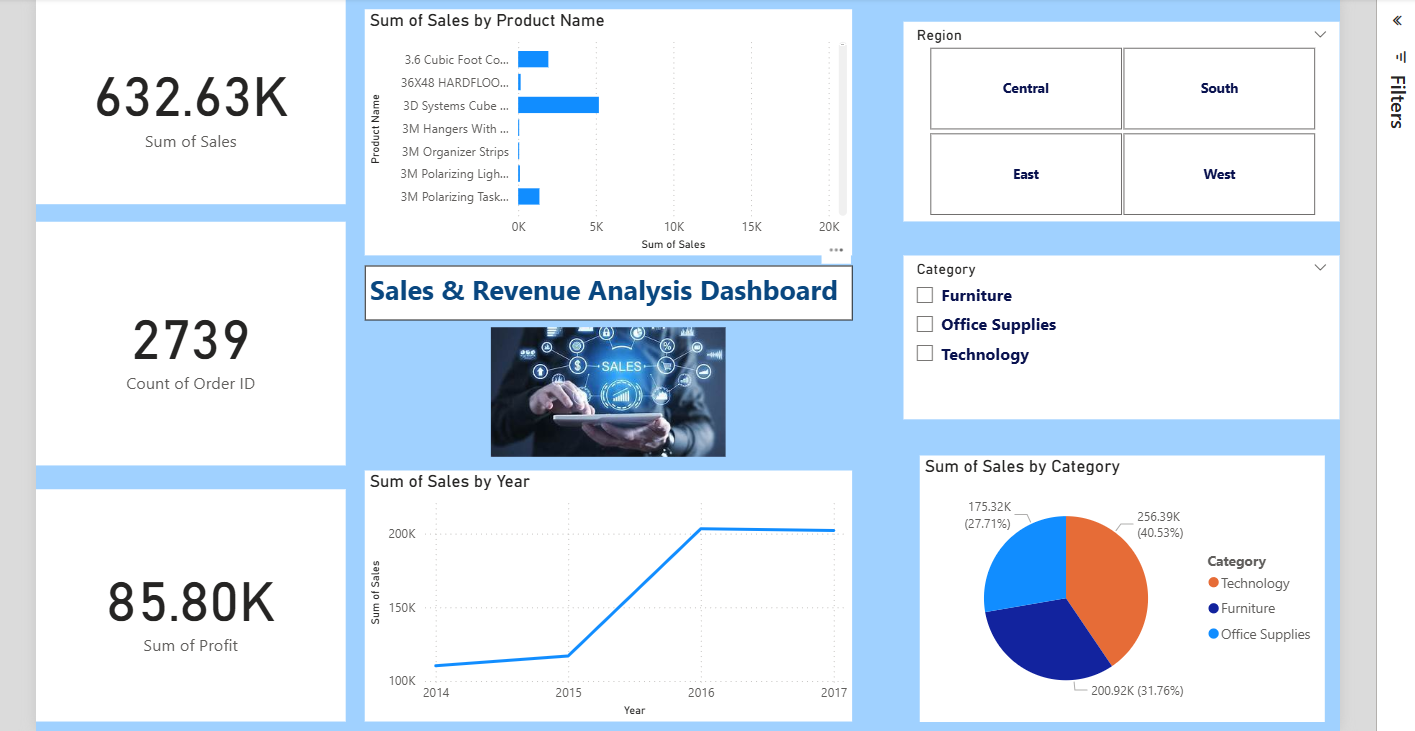

Layout of this report page (visuals, bound fields, positions):
{"tool":"powerbi","page":{"name":"Page 1","canvas":[1280,720],"ordinal":0},"visuals":[{"type":"card","fields":{"Values":["Sum(Sample - Superstore.Sales)"]},"box":[0,0,304.3,202.5],"z":0},{"type":"card","fields":{"Values":["CountNonNull(Sample - Superstore.Order ID)"]},"box":[0,219.6,304.3,239.3],"z":1000},{"type":"lineChart","fields":{"Category":["Sample - Superstore.Order Date.Variation.Date Hierarchy.Year","Sample - Superstore.Order Date.Variation.Date Hierarchy.Quarter","Sample - Superstore.Order Date.Variation.Date Hierarchy.Month","Sample - Superstore.Order Date.Variation.Date Hierarchy.Day"],"Y":["Sum(Sample - Superstore.Sales)"]},"box":[322.7,463.8,478.5,246.6],"z":2000},{"type":"clusteredBarChart","fields":{"Category":["Sample - Superstore.Product Name"],"Y":["Sum(Sample - Superstore.Sales)"]},"box":[322.7,11,478.5,241.7],"z":3000},{"type":"card","fields":{"Values":["Sum(Sample - Superstore.Profit)"]},"box":[0,482.2,304.3,228.2],"z":4000},{"type":"pieChart","fields":{"Category":["Sample - Superstore.Category"],"Y":["Sum(Sample - Superstore.Sales)"]},"box":[867.5,449.1,397.5,261.4],"z":5000},{"type":"slicer","fields":{"Values":["Sample - Superstore.Region"]},"box":[851.5,23.3,428.2,196.3],"z":6000},{"type":"slicer","fields":{"Values":["Sample - Superstore.Category"]},"box":[851.5,252.8,428.2,160.7],"z":7000},{"type":"image","box":[441.7,289.6,240.5,193.9],"z":8000},{"type":"textbox","box":[322.7,262.6,478.5,54],"z":9000}]}

Visuals, with their boxes on the page's 1280x720 design canvas (x1, y1, x2, y2). These are canvas units, not pixel positions in the 1415x731 screenshot, which may show the page scaled, cropped or inside an application window:
card - Sum(Sample - Superstore.Sales): {"x1": 0, "y1": 0, "x2": 304, "y2": 202}
card - CountNonNull(Sample - Superstore.Order ID): {"x1": 0, "y1": 220, "x2": 304, "y2": 459}
lineChart - Sample - Superstore.Order Date.Variation.Date Hierarchy.Year x Sample - Superstore.Order Date.Variation.Date Hierarchy.Quarter: {"x1": 323, "y1": 464, "x2": 801, "y2": 710}
clusteredBarChart - Sample - Superstore.Product Name x Sum(Sample - Superstore.Sales): {"x1": 323, "y1": 11, "x2": 801, "y2": 253}
card - Sum(Sample - Superstore.Profit): {"x1": 0, "y1": 482, "x2": 304, "y2": 710}
pieChart - Sample - Superstore.Category x Sum(Sample - Superstore.Sales): {"x1": 868, "y1": 449, "x2": 1265, "y2": 710}
slicer - Sample - Superstore.Region: {"x1": 852, "y1": 23, "x2": 1280, "y2": 220}
slicer - Sample - Superstore.Category: {"x1": 852, "y1": 253, "x2": 1280, "y2": 414}
image: {"x1": 442, "y1": 290, "x2": 682, "y2": 484}
textbox: {"x1": 323, "y1": 263, "x2": 801, "y2": 317}
